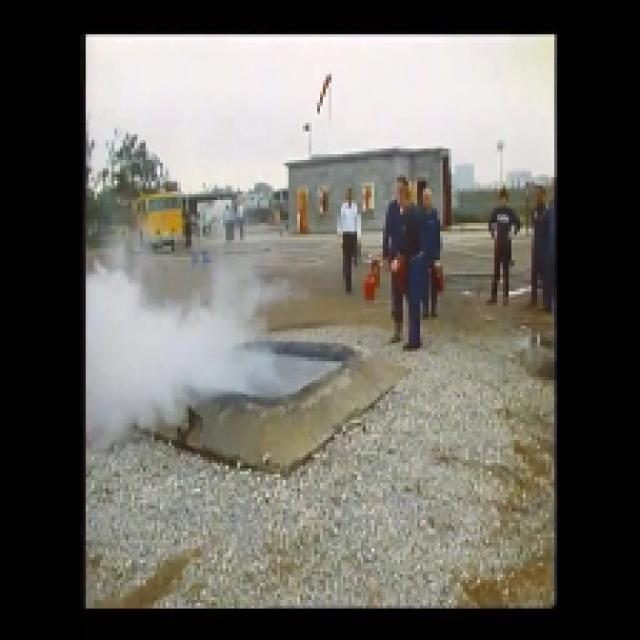smoke: (90, 262, 285, 448)
